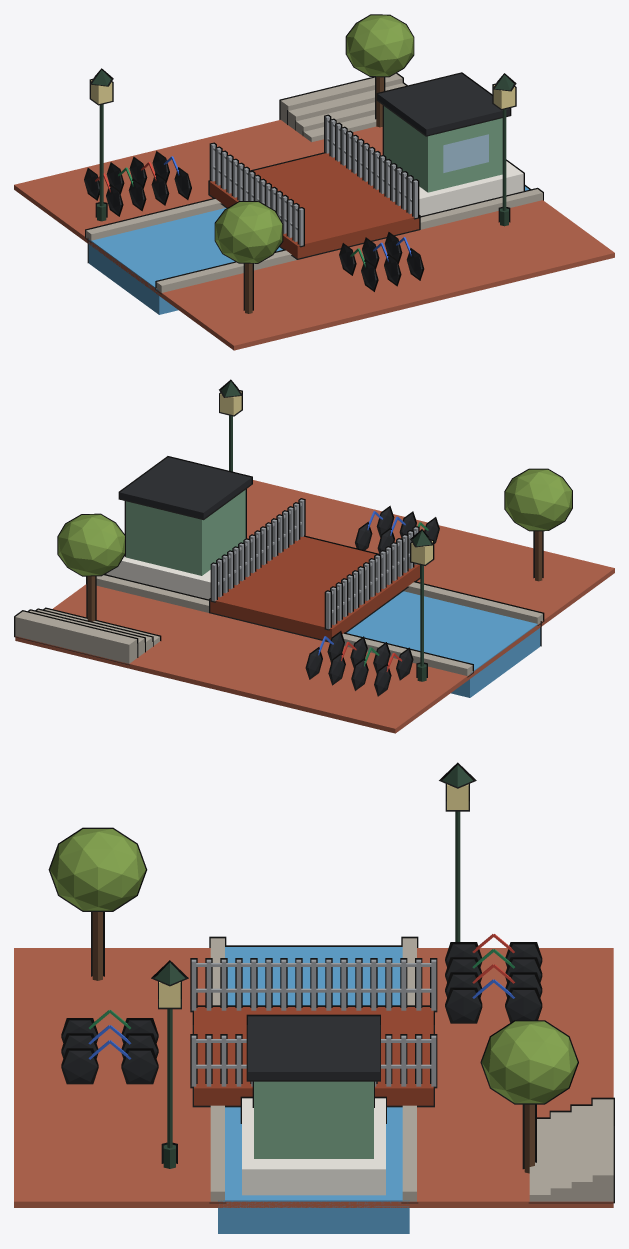
The model's file is Park_cim_kanal.fbx.
3 renders of one model, top to bottom at view 1: azimuth 30°, elevation 25°; view 2: azimuth 150°, elevation 25°; view 3: azimuth 270°, elevation 25°, orthographic. The views are drawn at different scales.
Parts seen in each view (by area): view 1: Park_cim_kanal; view 2: Park_cim_kanal; view 3: Park_cim_kanal.
Boxes of the visible parts, x1,y1,x2,y2 form: Park_cim_kanal: (14, 14, 614, 350); Park_cim_kanal: (14, 379, 614, 733); Park_cim_kanal: (14, 762, 614, 1233).
Size of the model in its own units: 10.04 by 4.39 by 10.02.
